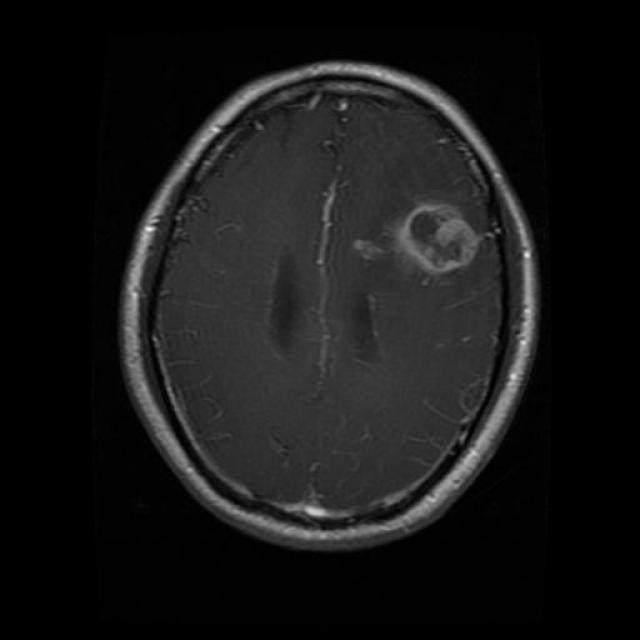Brain-Tumor: (388, 193, 493, 283)
